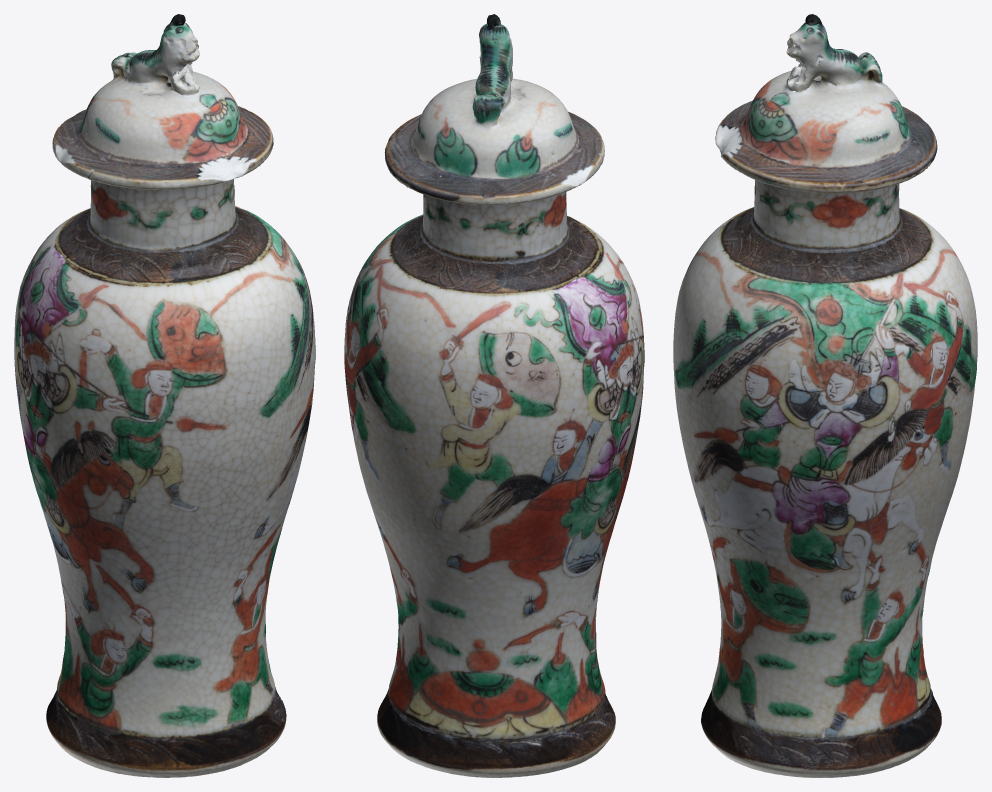
File: china_vase.glb
3 renders of one model, left to right at view 1: azimuth 30°, elevation 25°; view 2: azimuth 150°, elevation 25°; view 3: azimuth 270°, elevation 25°, orthographic.
Visible parts, largest first — view 1: Object_2; view 2: Object_2; view 3: Object_2.
Part boxes in pixels (x1,y1,x2,y2): Object_2: [14, 14, 315, 777]; Object_2: [344, 14, 644, 777]; Object_2: [673, 14, 977, 777].
Bounding box in the file's own units: 3.39 × 8.9 × 3.4.
1 material, 1 textured.
